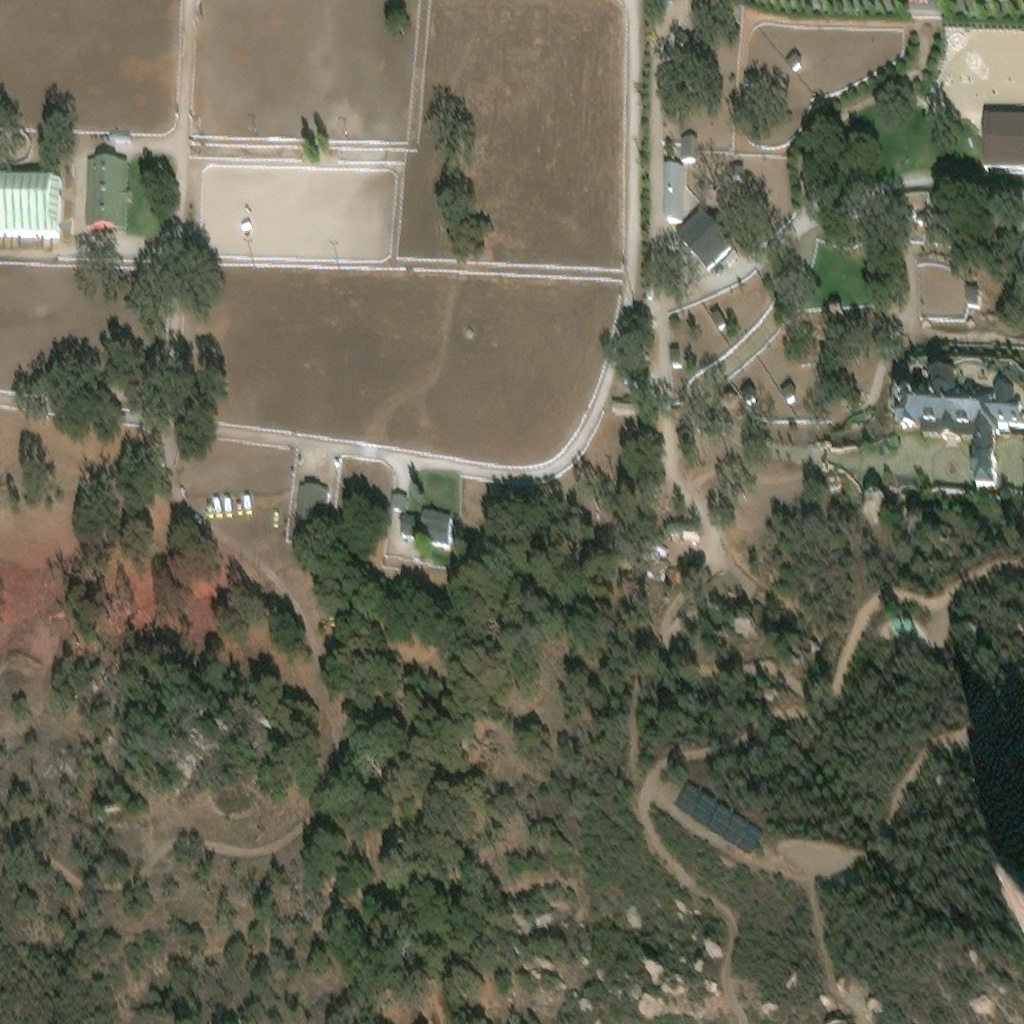0 no-damage: (894, 367, 1023, 478), (672, 783, 766, 860), (673, 204, 738, 267), (0, 173, 60, 234), (84, 154, 130, 232), (982, 111, 1023, 167), (399, 504, 451, 542), (292, 479, 328, 526), (663, 162, 684, 218), (862, 487, 886, 521), (742, 72, 759, 105), (680, 135, 696, 160), (799, 635, 818, 654), (733, 618, 753, 634), (640, 559, 662, 573), (388, 492, 405, 510), (664, 560, 683, 575), (609, 399, 634, 410), (778, 377, 795, 393), (963, 283, 978, 299), (708, 304, 722, 321), (827, 299, 842, 314), (651, 536, 666, 551), (787, 53, 801, 69), (667, 346, 680, 363), (707, 628, 727, 639), (739, 380, 753, 395), (729, 163, 741, 177), (680, 525, 695, 534), (622, 375, 634, 383)
